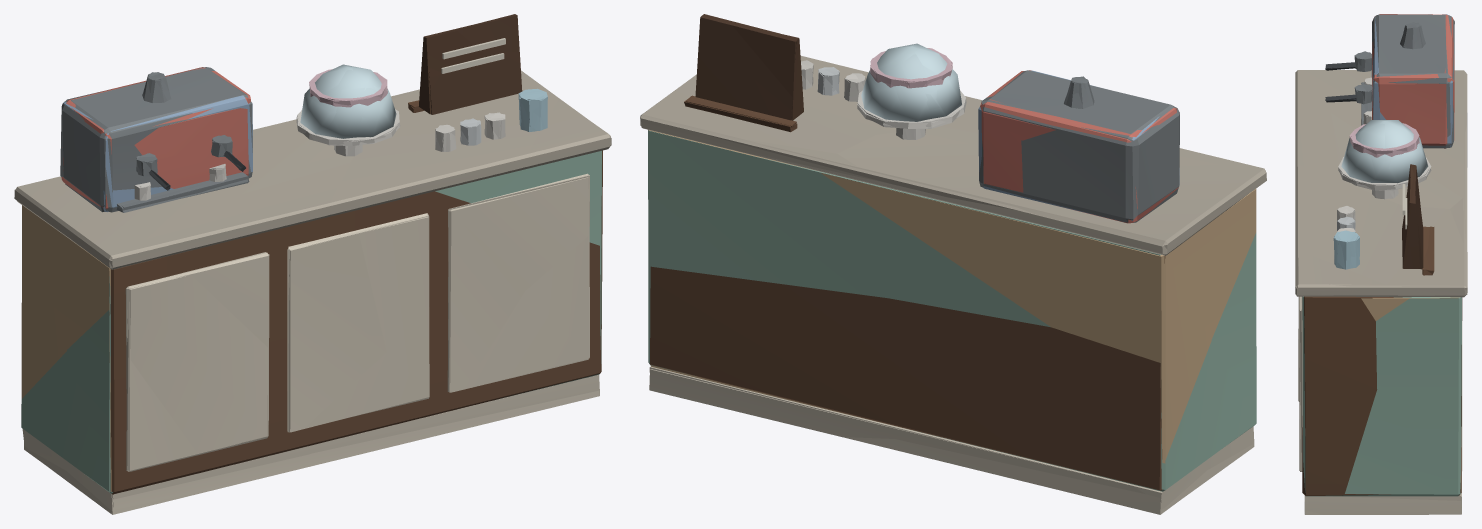
Rendered from cafe.bar.glb.
3 views of the same model, side by side, from view 1: azimuth 30°, elevation 25°; view 2: azimuth 150°, elevation 25°; view 3: azimuth 270°, elevation 25° (orthographic). The views are drawn at different scales.
Parts seen in each view (by area): view 1: cafe.bar.v1.mesh, cafe.bar.v0.mesh, cafe.bar.v2.mesh; view 2: cafe.bar.v0.mesh, cafe.bar.v1.mesh, cafe.bar.v2.mesh; view 3: cafe.bar.v1.mesh, cafe.bar.v0.mesh, cafe.bar.v2.mesh.
Boxes of the visible parts, x1,y1,x2,y2 form: cafe.bar.v1.mesh: (14,15,610,514); cafe.bar.v0.mesh: (14,25,611,509); cafe.bar.v2.mesh: (15,14,611,514); cafe.bar.v0.mesh: (642,26,1266,514); cafe.bar.v1.mesh: (640,14,1266,509); cafe.bar.v2.mesh: (640,14,1266,507); cafe.bar.v1.mesh: (1295,14,1467,514); cafe.bar.v0.mesh: (1295,14,1467,514); cafe.bar.v2.mesh: (1295,14,1467,514).
Bounding box in the file's own units: 2 × 1.4 × 0.6739.
